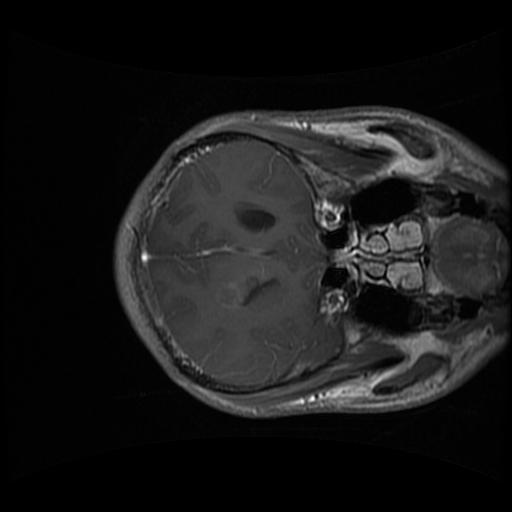glioma: (215, 267, 283, 314)
